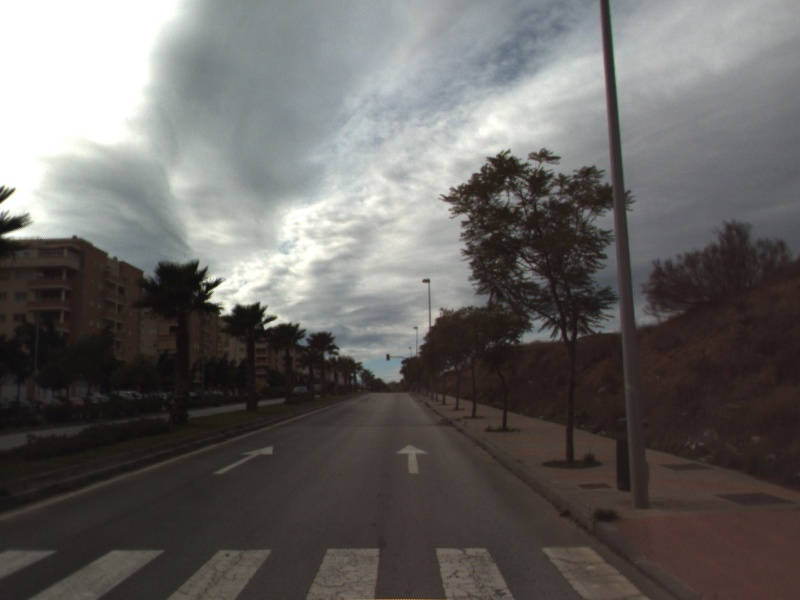STRAIGHT: (211, 442, 276, 476), (394, 442, 431, 476)
